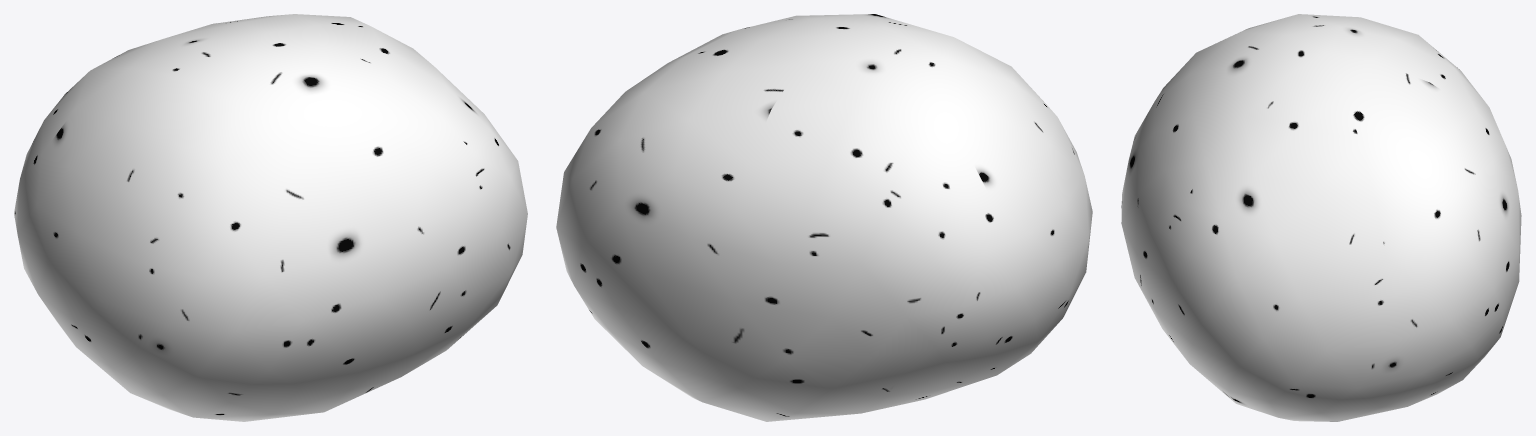
The model's file is ARotafive.fbx.
3 renders of one model, left to right at view 1: azimuth 30°, elevation 25°; view 2: azimuth 150°, elevation 25°; view 3: azimuth 270°, elevation 25°, orthographic. The views are drawn at different scales.
Visible parts, largest first — view 1: Icosphere; view 2: Icosphere; view 3: Icosphere.
Boxes of the visible parts, x1,y1,x2,y2 form: Icosphere: (14, 14, 527, 421); Icosphere: (556, 14, 1092, 421); Icosphere: (1121, 14, 1521, 421).
Bounding box in the file's own units: 230 × 174 × 189.
1 material, 1 textured.
